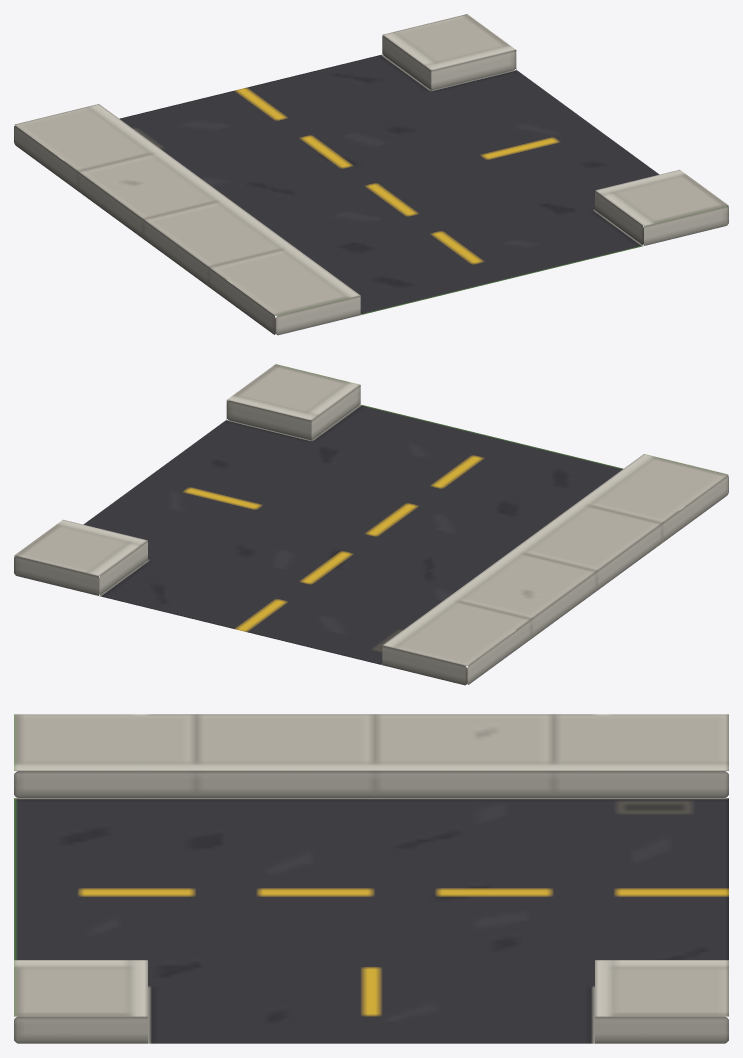
Rendered from Calle_T.fbx.
3 renders of one model, top to bottom at view 1: azimuth 30°, elevation 25°; view 2: azimuth 150°, elevation 25°; view 3: azimuth 270°, elevation 25°, orthographic. The views are drawn at different scales.
Parts seen in each view (by area): view 1: Calle_T; view 2: Calle_T; view 3: Calle_T.
Boxes of the visible parts, box(x1,y1,x2,y2) form: Calle_T: box(14, 14, 728, 335); Calle_T: box(14, 364, 728, 685); Calle_T: box(14, 714, 728, 1043).
Size of the model in its own units: 3 by 0.125 by 3.
1 material, 1 textured.
